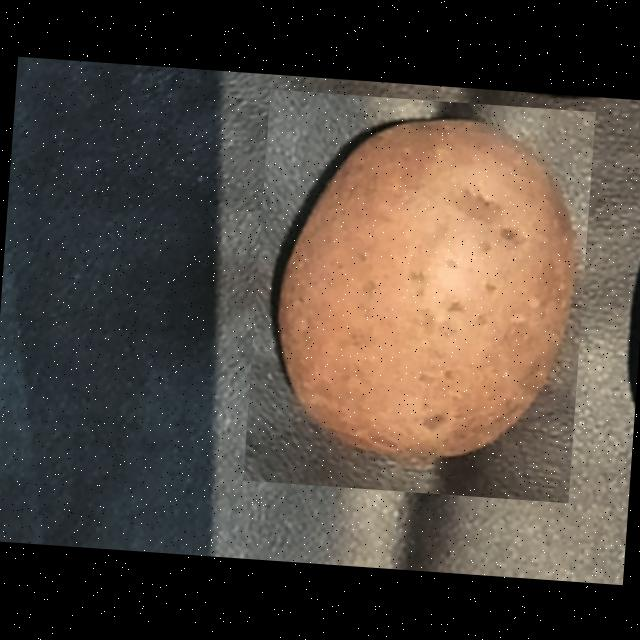Diseased-fungal potato: (242, 88, 596, 502)
